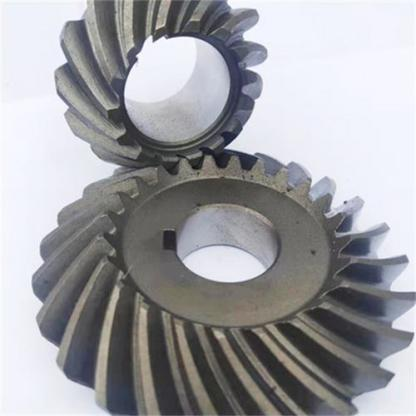FOD: (31, 139, 415, 415), (50, 0, 279, 171)
